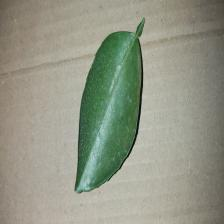healthy: (74, 27, 142, 201)
